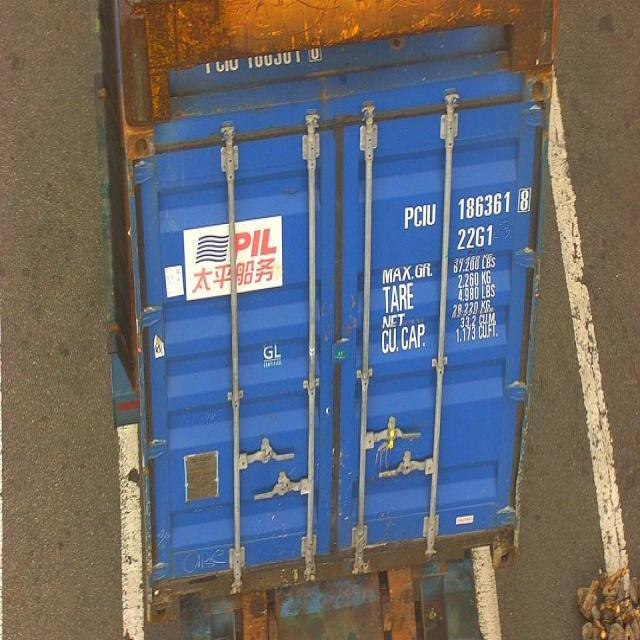ISO: (458, 228, 494, 248)
container_number: (400, 192, 528, 222)
